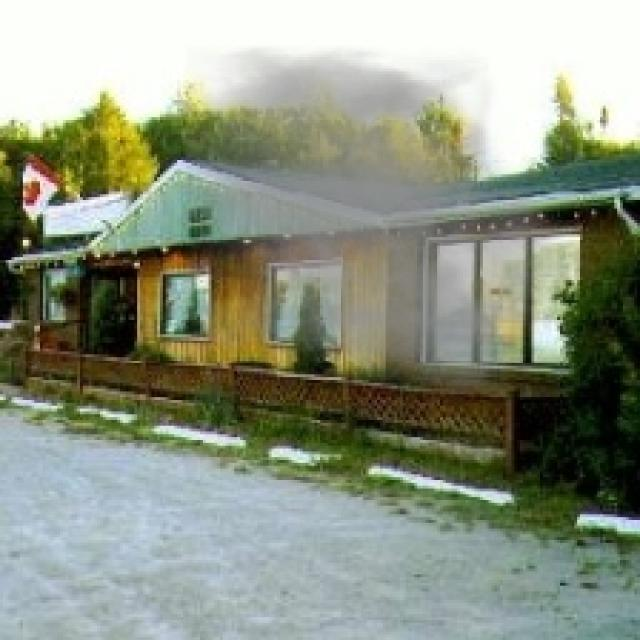smoke: (186, 46, 577, 391)
